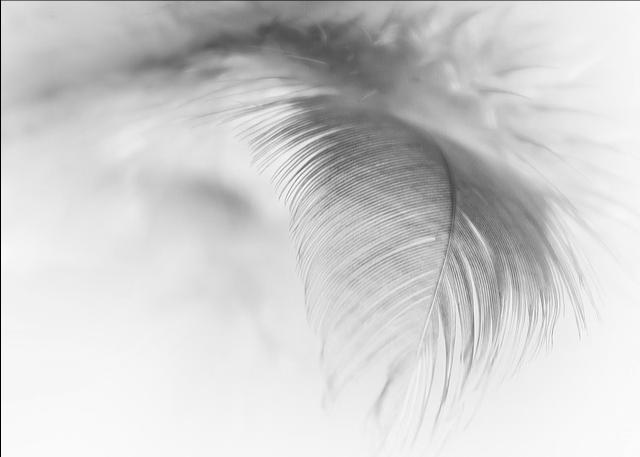Non_Gorille: (148, 44, 606, 438)
